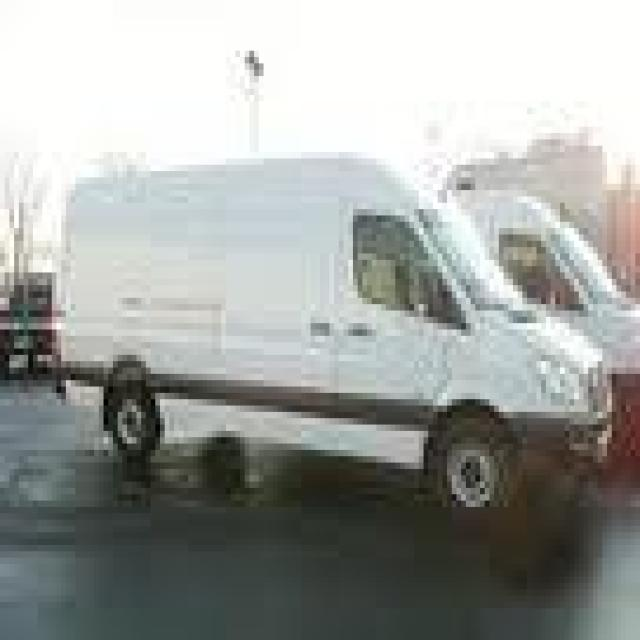Van: (40, 136, 624, 529), (419, 171, 640, 450)
